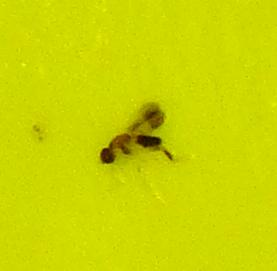Brachycera: (100, 100, 177, 171)
